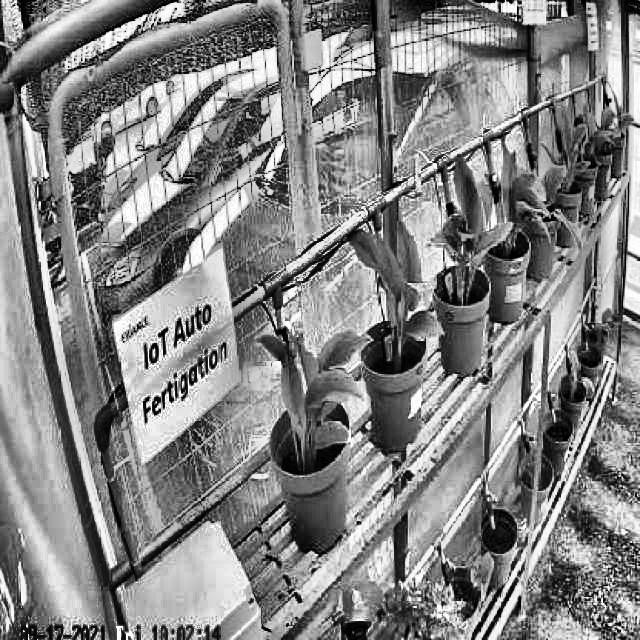plants: (258, 331, 376, 457), (348, 222, 444, 356), (428, 154, 496, 306), (498, 149, 552, 251)
